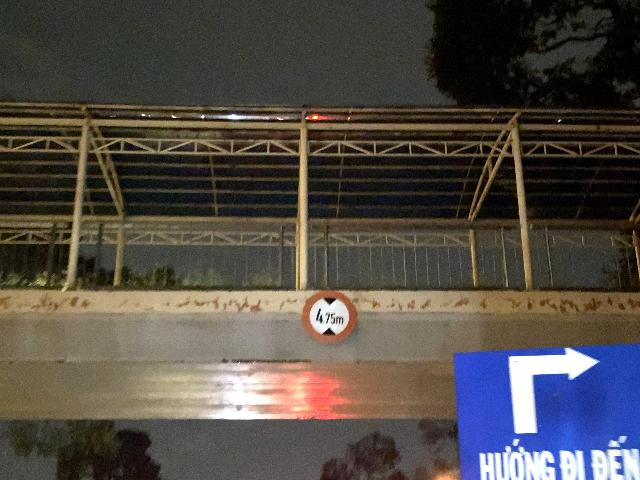han-che-chieu-cao: (302, 290, 356, 344)
